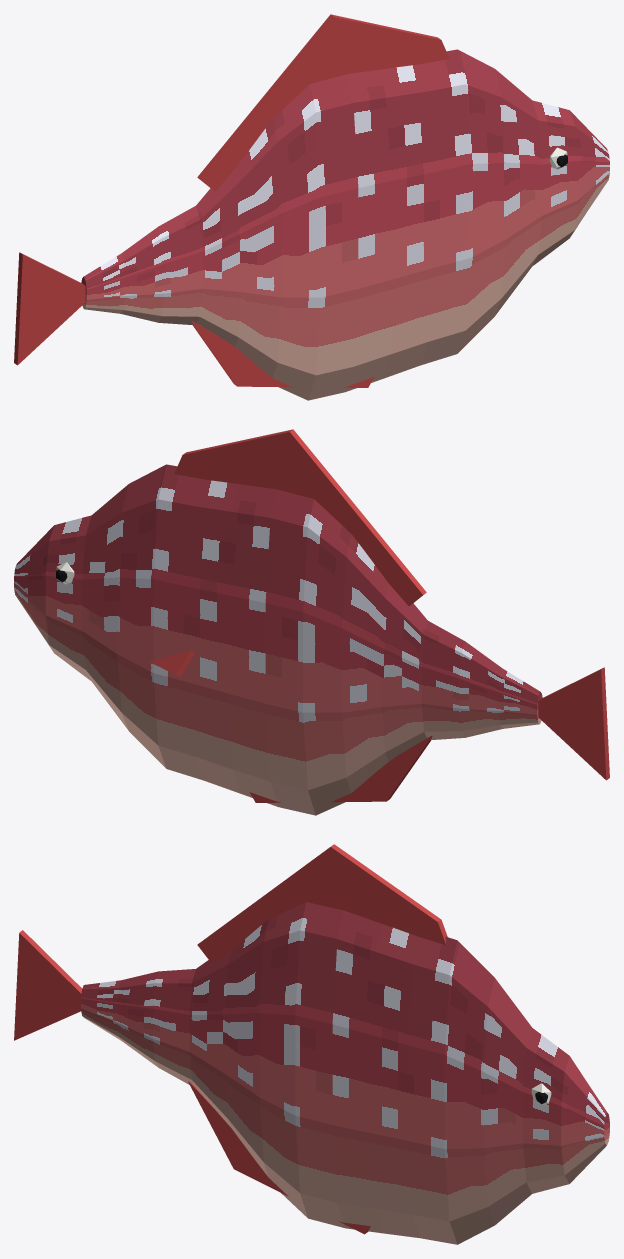
The model's file is opah.glb.
The picture shows the model from 3 angles, top to bottom: view 1: azimuth 30°, elevation 25°; view 2: azimuth 150°, elevation 25°; view 3: azimuth 330°, elevation 25°; orthographic projection.
Visible parts, largest first — view 1: fish_opah; view 2: fish_opah; view 3: fish_opah.
Boxes of the visible parts, x1=… form: fish_opah: x1=14, y1=14, x2=609, y2=400; fish_opah: x1=14, y1=429, x2=609, y2=815; fish_opah: x1=14, y1=844, x2=609, y2=1244.
Bounding box in the file's own units: 1.13 × 0.6934 × 0.1177.
Materials: 4 (1 with a texture image).
